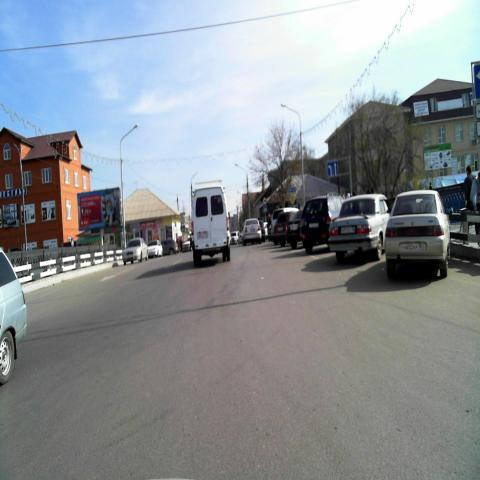2_1: (289, 193, 295, 204)
5_15_2_2: (328, 160, 338, 176)
